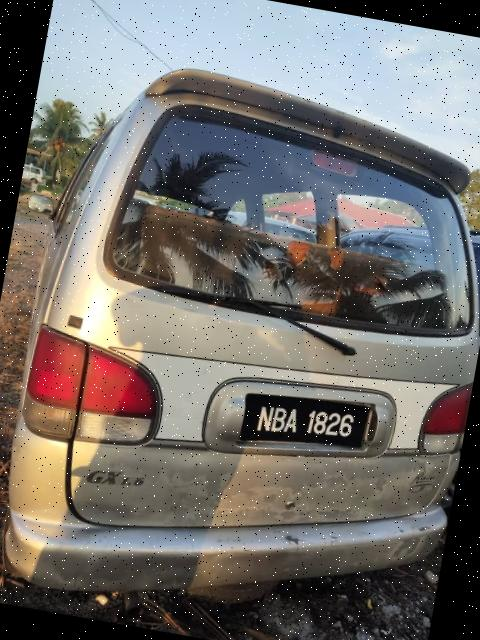License_Plate: (241, 394, 376, 456)
car: (1, 44, 480, 640)
